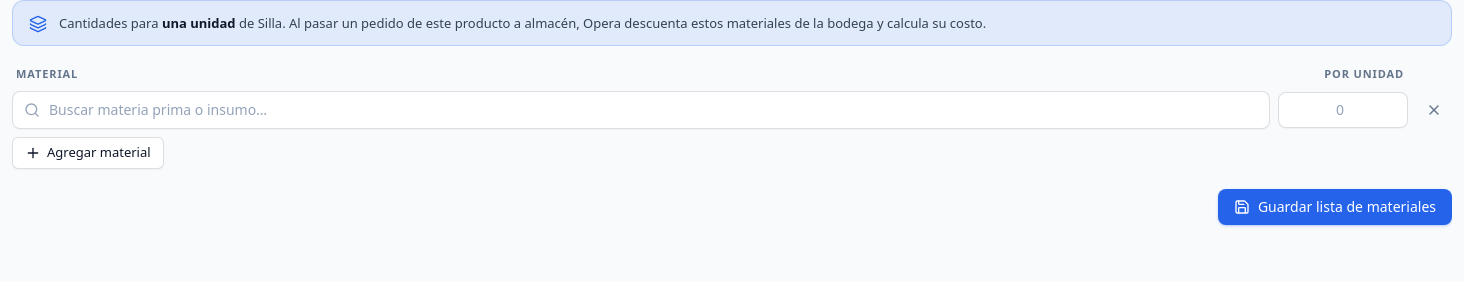
Test: BillOfMaterialsEditor › starts with one empty line for a product without a list, and validates before saving
Click the button "Guardar lista de materiales": (1335, 206) left=1218, top=188, right=1452, bottom=224
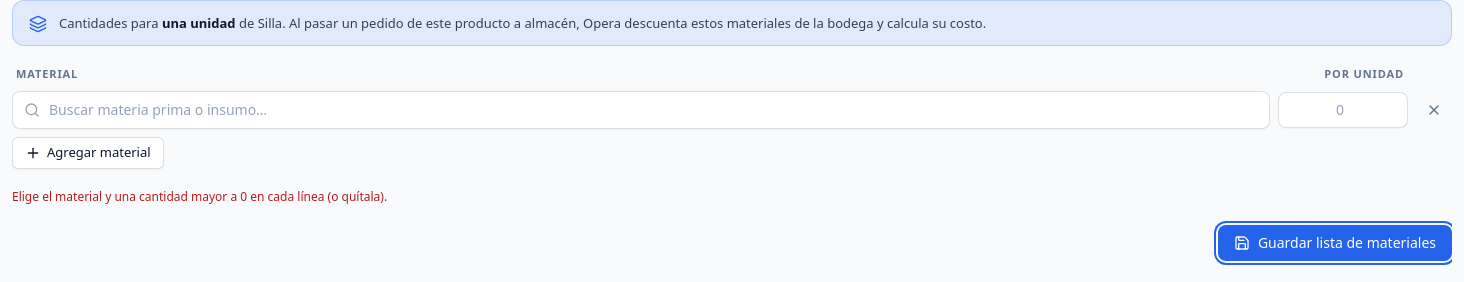
Expected: the text "Elige el material y una cantidad mayor a 0 en cada línea (o quítala)." is shown, left=12, top=188, right=387, bottom=204
